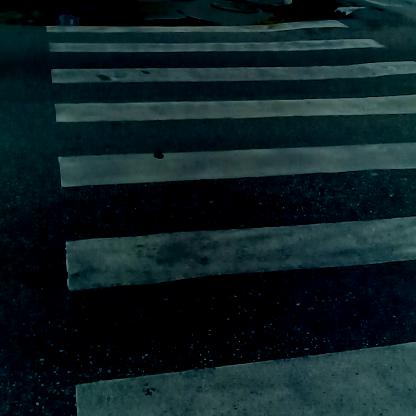crosswalk: (41, 32, 416, 406)
sidewalk: (6, 1, 349, 26)
